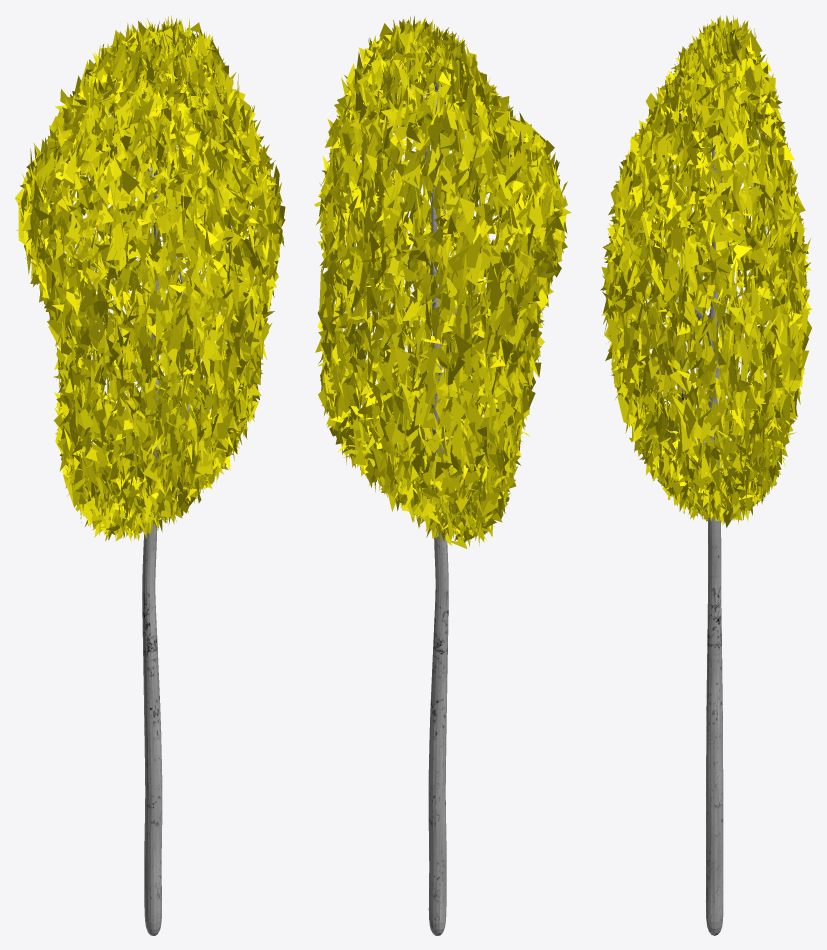
Rendered from Leaves15.fbx.
3 renders of one model, left to right at view 1: azimuth 30°, elevation 25°; view 2: azimuth 150°, elevation 25°; view 3: azimuth 270°, elevation 25°, orthographic.
Parts seen in each view (by area): view 1: Leaves15; view 2: Leaves15; view 3: Leaves15.
Part boxes in pixels (box(x1,y1,x2,y2)): Leaves15: box(14, 15, 285, 935); Leaves15: box(314, 16, 571, 935); Leaves15: box(600, 15, 811, 935).
Size of the model in its own units: 739 by 2626 by 550.
2 materials, 1 textured.
